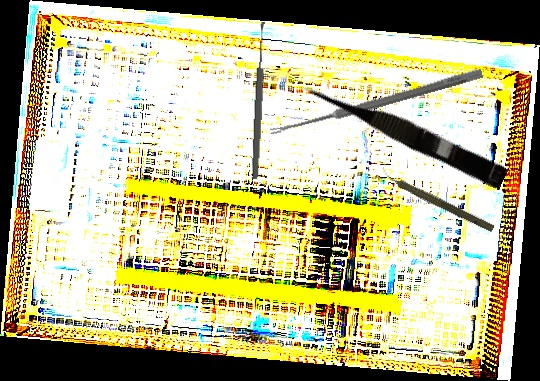Handpiece: (377, 166, 497, 234)
Micro Scissor: (298, 71, 511, 191)
Surgical Spoon: (269, 67, 484, 138), (250, 21, 268, 180)
